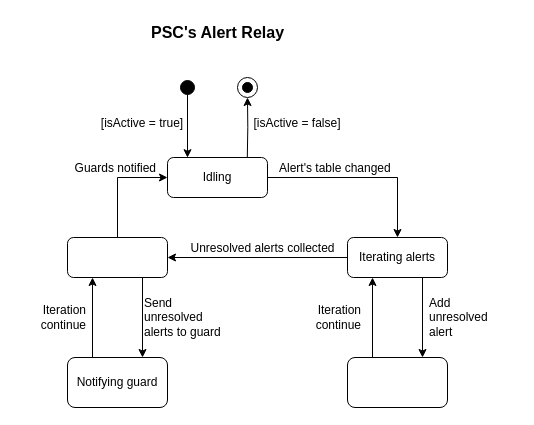
This 534x425 diagram has some shape labels left out. The shapes that lost their labels are listed below. From the top down, each one's centre as x and y in pixels, then its label:
At [117,257]: "Iterating users".
At [397,382]: "Populating unresolvedAlerts JSON".
